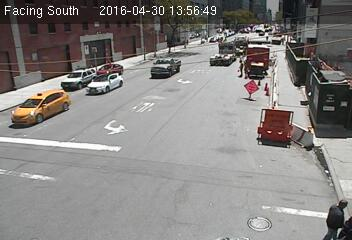neg: (273, 32, 286, 49), (175, 31, 187, 46), (53, 68, 64, 84), (131, 40, 142, 56)
pos: (315, 191, 350, 237), (234, 57, 249, 78)
